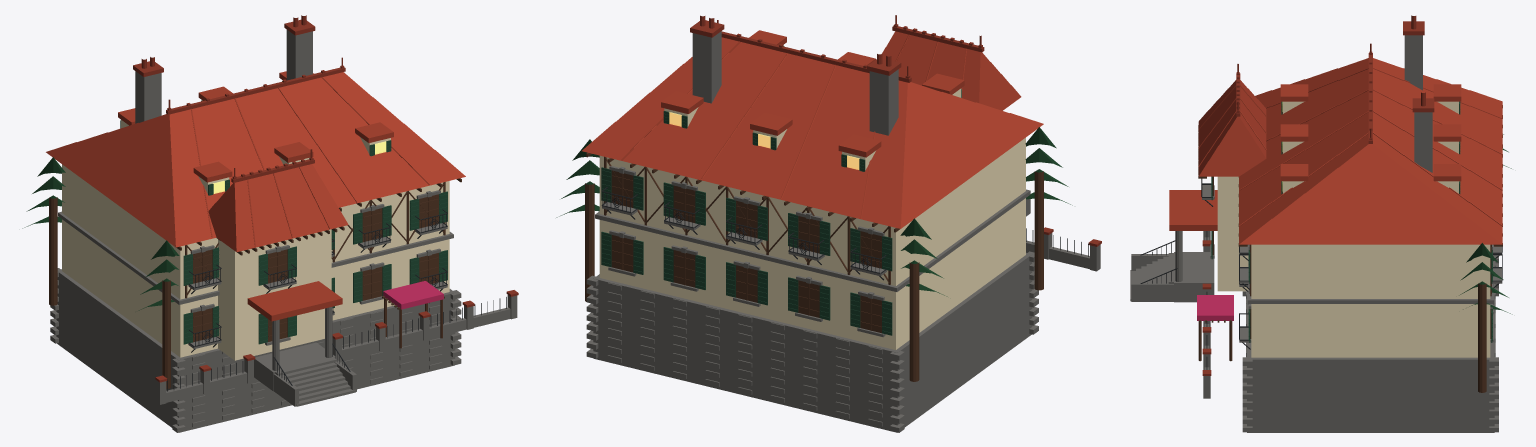
Rendered from fv_thd_11_villa_26_basque_veranda.glb.
3 views of the same model, side by side, from view 1: azimuth 30°, elevation 25°; view 2: azimuth 150°, elevation 25°; view 3: azimuth 270°, elevation 25° (orthographic). The views are drawn at different scales.
Parts seen in each view (by area): view 1: marseille_corrugated_roof_tiles, granite_foundation_and_stairs, stucco_facade_and_dormers, colombage_timber_and_eaves, pine_green_louvered_shutters, ridge_cresting_and_chimneys, wrought_iron_balconies_3d, pine_trees_and_garden_hedges, bougainvillea_pergola_clusters; view 2: marseille_corrugated_roof_tiles, granite_foundation_and_stairs, stucco_facade_and_dormers, colombage_timber_and_eaves, pine_green_louvered_shutters, ridge_cresting_and_chimneys, pine_trees_and_garden_hedges, wrought_iron_balconies_3d; view 3: marseille_corrugated_roof_tiles, stucco_facade_and_dormers, granite_foundation_and_stairs, colombage_timber_and_eaves, ridge_cresting_and_chimneys, bougainvillea_pergola_clusters, wrought_iron_balconies_3d, pine_trees_and_garden_hedges, pine_green_louvered_shutters.
Part boxes in pixels (left/top/right/bottom): marseille_corrugated_roof_tiles: left=46, top=71, right=465, bottom=321; granite_foundation_and_stairs: left=50, top=30, right=517, bottom=432; stucco_facade_and_dormers: left=62, top=100, right=449, bottom=360; colombage_timber_and_eaves: left=49, top=178, right=461, bottom=388; pine_green_louvered_shutters: left=120, top=81, right=447, bottom=344; ridge_cresting_and_chimneys: left=133, top=15, right=518, bottom=382; wrought_iron_balconies_3d: left=167, top=209, right=506, bottom=391; pine_trees_and_garden_hedges: left=22, top=157, right=179, bottom=310; bougainvillea_pergola_clusters: left=383, top=281, right=443, bottom=309; marseille_corrugated_roof_tiles: left=582, top=30, right=1043, bottom=228; granite_foundation_and_stairs: left=586, top=31, right=1100, bottom=432; stucco_facade_and_dormers: left=599, top=45, right=1025, bottom=349; colombage_timber_and_eaves: left=585, top=153, right=1043, bottom=381; pine_green_louvered_shutters: left=601, top=46, right=961, bottom=335; ridge_cresting_and_chimneys: left=690, top=15, right=1101, bottom=246; pine_trees_and_garden_hedges: left=556, top=127, right=1072, bottom=296; wrought_iron_balconies_3d: left=601, top=187, right=1088, bottom=280; marseille_corrugated_roof_tiles: left=1169, top=58, right=1502, bottom=244; stucco_facade_and_dormers: left=1217, top=101, right=1490, bottom=357; granite_foundation_and_stairs: left=1130, top=35, right=1502, bottom=432; colombage_timber_and_eaves: left=1198, top=105, right=1502, bottom=392; ridge_cresting_and_chimneys: left=1202, top=15, right=1434, bottom=375; bougainvillea_pergola_clusters: left=1197, top=295, right=1233, bottom=320; wrought_iron_balconies_3d: left=1140, top=178, right=1502, bottom=369; pine_trees_and_garden_hedges: left=1459, top=134, right=1512, bottom=314; pine_green_louvered_shutters: left=1211, top=101, right=1492, bottom=342.
Bounding box in the file's own units: 24.76 × 19.73 × 22.91.
